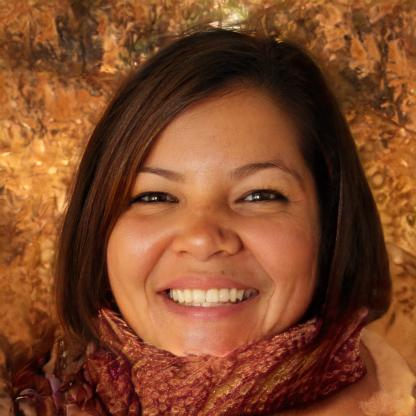eyeee: (228, 185, 295, 211), (123, 187, 184, 208)
mouthhz: (153, 272, 262, 324)
nosebb: (168, 202, 244, 261)
